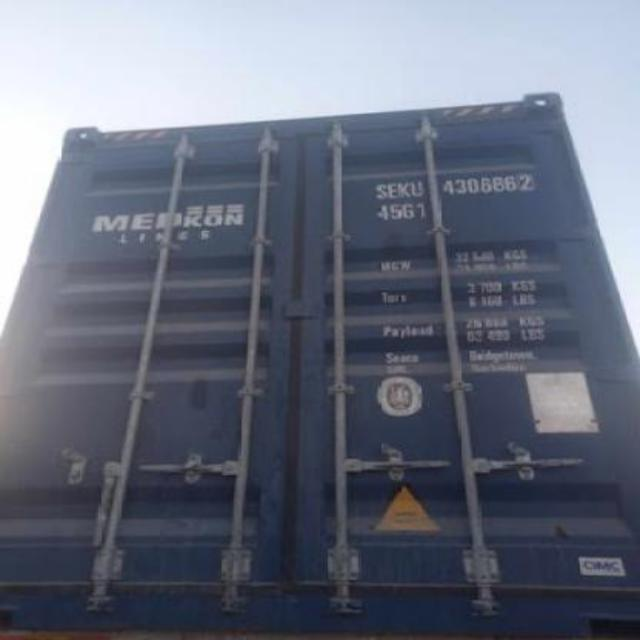0: (466, 173, 478, 197)
2: (518, 170, 534, 194)
3: (454, 176, 466, 198)
4: (442, 176, 454, 198)
6: (504, 172, 516, 195), (480, 176, 490, 197)
8: (490, 171, 502, 195)
E: (386, 182, 398, 200)
K: (398, 178, 410, 200)
S: (374, 176, 386, 204)
U: (410, 178, 422, 198)
